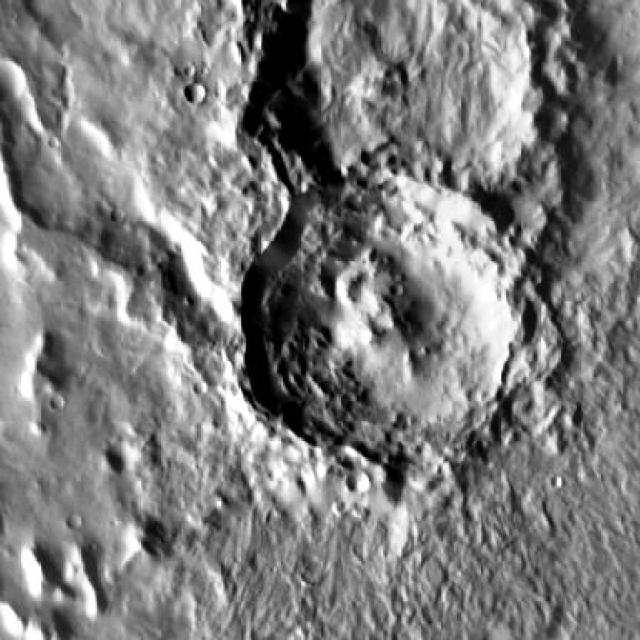crater: (253, 175, 549, 467), (274, 0, 555, 223), (102, 438, 138, 474), (186, 82, 206, 102), (348, 472, 368, 492)
